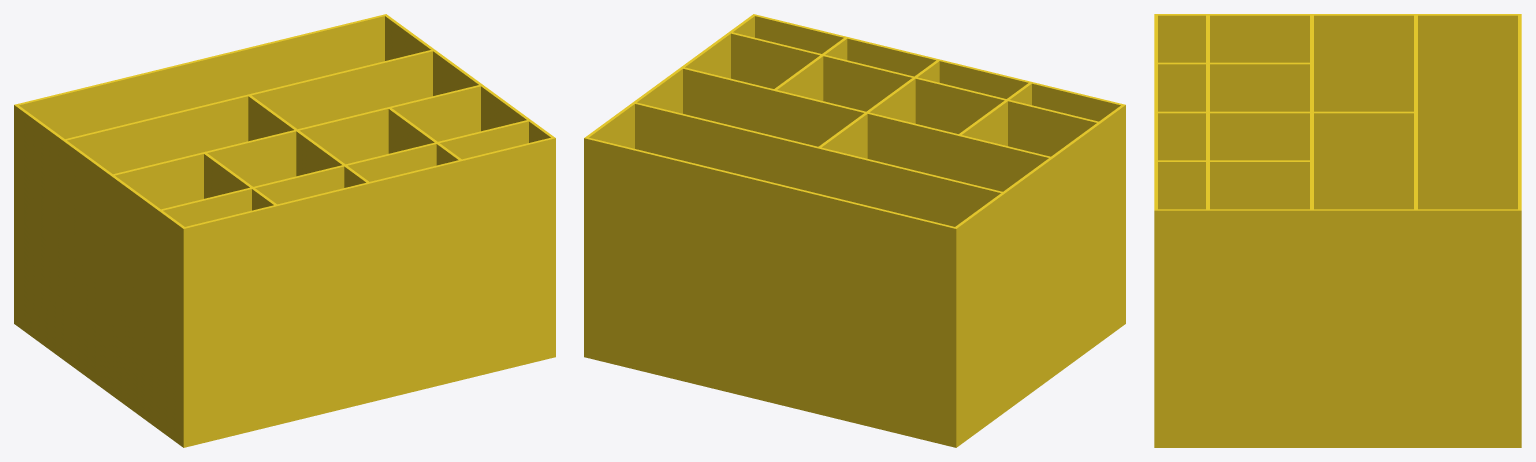
File: openscad_mini-storage-drawers.glb
3 views of the same model, side by side, from view 1: azimuth 30°, elevation 25°; view 2: azimuth 150°, elevation 25°; view 3: azimuth 270°, elevation 25° (orthographic). The views are drawn at different scales.
Parts seen in each view (by area): view 1: object; view 2: object; view 3: object.
Boxes of the visible parts, x1,y1,x2,y2 form: object: (14, 14, 555, 447); object: (584, 14, 1125, 447); object: (1154, 14, 1521, 447).
Bounding box in the file's own units: 121 × 68 × 95.5.
